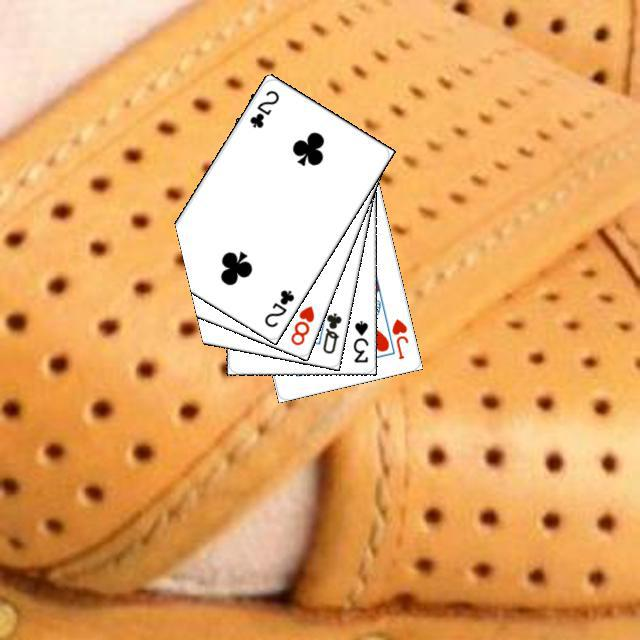2c: (259, 285, 296, 329), (245, 85, 281, 130)
3s: (348, 316, 370, 364)
8h: (286, 301, 316, 347)
Jh: (387, 313, 410, 361)
Qc: (311, 302, 343, 355)
